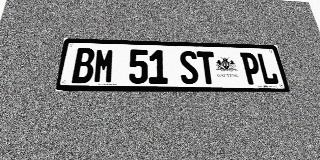1: (148, 50, 168, 84)
5: (129, 49, 148, 84)
B: (71, 48, 95, 83)
L: (256, 53, 280, 85)
M: (93, 48, 115, 84)
P: (240, 52, 263, 85)
S: (179, 51, 199, 84)
T: (196, 51, 218, 84)
